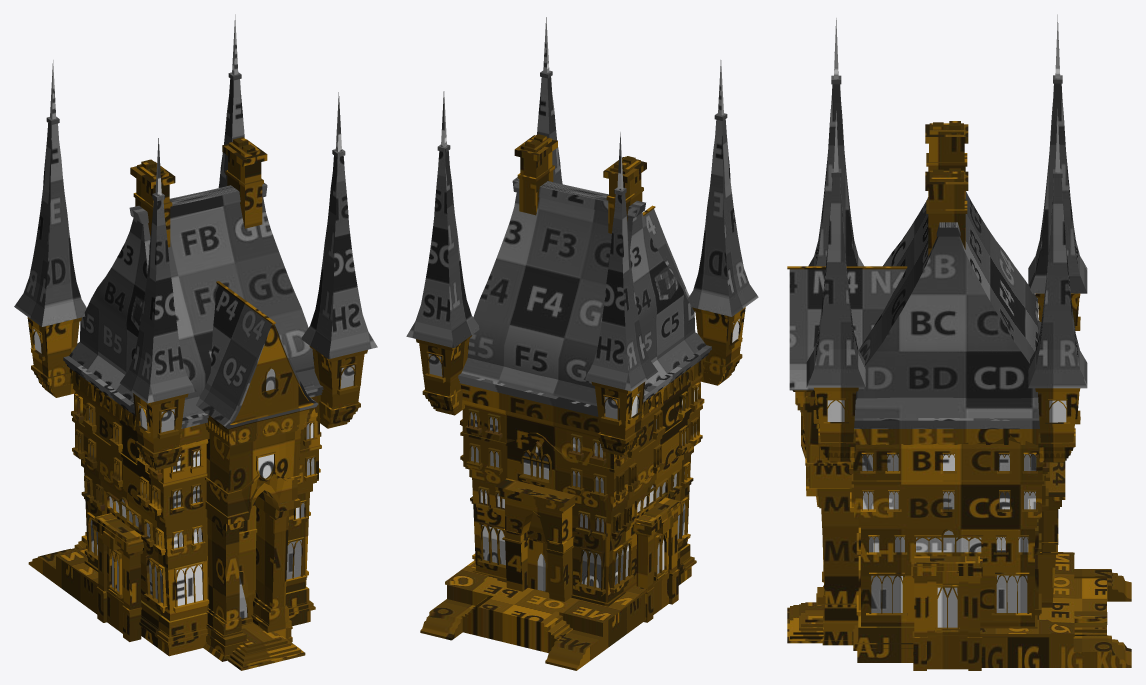
File: House01.fbx
The picture shows the model from 3 angles, left to right: view 1: azimuth 30°, elevation 25°; view 2: azimuth 150°, elevation 25°; view 3: azimuth 270°, elevation 25°; orthographic projection. The views are drawn at different scales.
Visible parts, largest first — view 1: MainBody, FrontBody, Tower4, Tower5, Tower7, Side3, Chimney1, BackStairs, FrontStairs, Chimney2, Tower6; view 2: MainBody, BackStairs, Tower7, Tower6, Tower4, BackBody, Side3, Chimney1, Chimney2, Tower5, BackDoor, FrontBody; view 3: MainBody, FrontBody, BackStairs, Tower6, Tower5, Side2, Tower7, Tower4, Chimney1, BackBody, Chimney2, FrontStairs.
Boxes of the visible parts, x1,y1,x2,y2 form: MainBody: [63, 183, 323, 656]; FrontBody: [196, 281, 318, 661]; Tower4: [120, 138, 196, 470]; Tower5: [301, 92, 377, 428]; Tower7: [14, 60, 86, 397]; Side3: [92, 513, 143, 641]; Chimney1: [222, 137, 267, 228]; BackStairs: [28, 532, 98, 614]; FrontStairs: [227, 623, 305, 670]; Chimney2: [130, 159, 175, 247]; Tower6: [218, 14, 244, 187]; MainBody: [458, 177, 711, 606]; BackStairs: [420, 560, 646, 670]; Tower7: [583, 132, 657, 456]; Tower6: [406, 91, 479, 415]; Tower4: [687, 60, 758, 385]; BackBody: [495, 478, 577, 601]; Side3: [633, 497, 682, 622]; Chimney1: [514, 134, 557, 215]; Chimney2: [603, 156, 646, 233]; Tower5: [537, 17, 562, 184]; BackDoor: [527, 513, 548, 592]; FrontBody: [642, 205, 694, 311]; MainBody: [849, 191, 1049, 662]; FrontBody: [787, 266, 907, 645]; BackStairs: [980, 552, 1131, 667]; Tower6: [1028, 109, 1087, 462]; Tower5: [806, 111, 865, 461]; Side2: [911, 556, 982, 670]; Tower7: [1028, 14, 1087, 330]; Tower4: [808, 18, 863, 266]; Chimney1: [925, 168, 968, 255]; BackBody: [1035, 461, 1065, 607]; Chimney2: [925, 121, 968, 200]; FrontStairs: [787, 602, 824, 643].
Bounding box in the file's own units: 14.04 × 30.95 × 17.03.
Materials: 3 (3 with a texture image).
